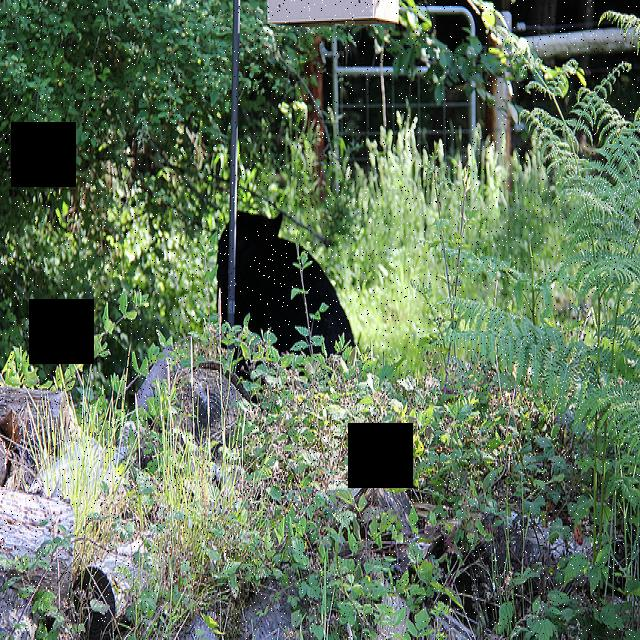Bear: (213, 204, 360, 350)
